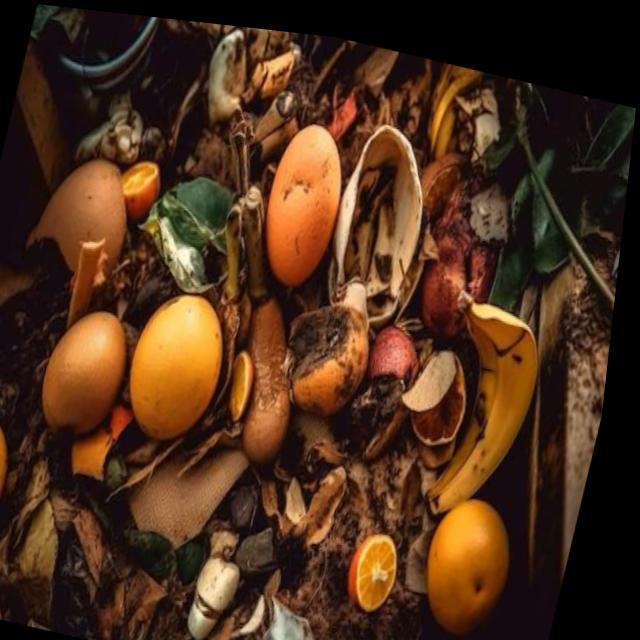Garbage: (0, 20, 548, 640)
